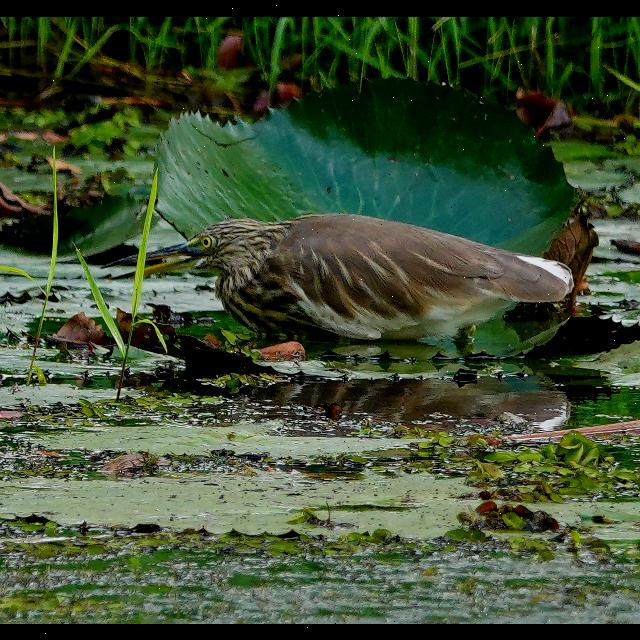heron: (104, 210, 578, 340)
